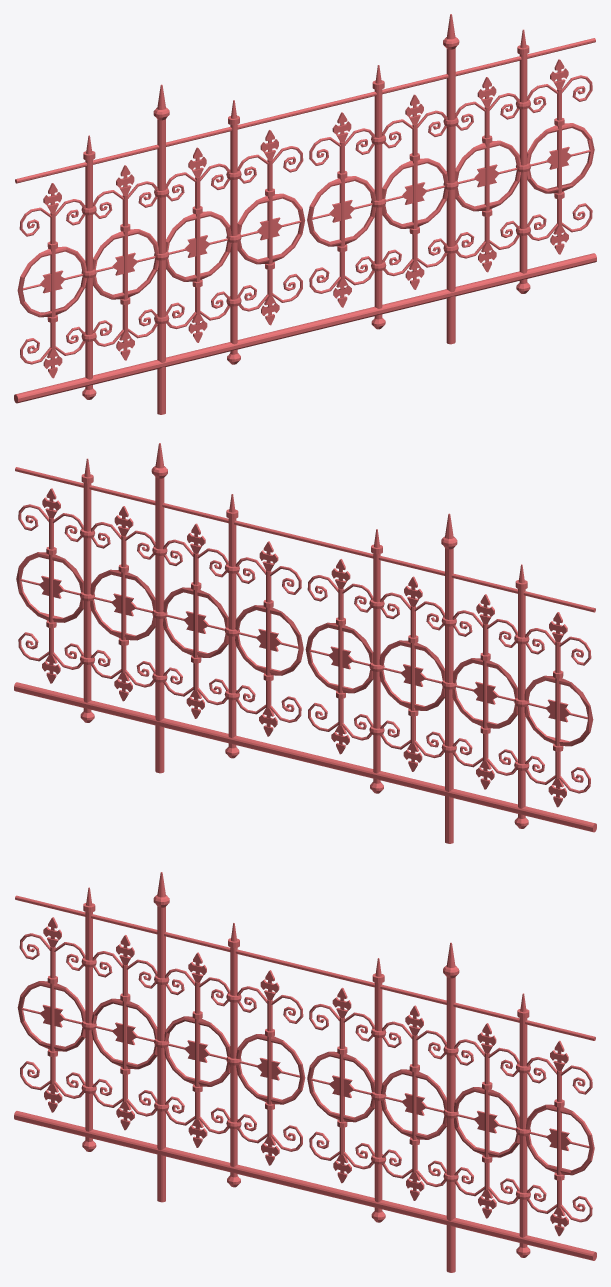
File: metal_fence_test.fbx
3 renders of one model, top to bottom at view 1: azimuth 30°, elevation 25°; view 2: azimuth 150°, elevation 25°; view 3: azimuth 330°, elevation 25°, orthographic.
Visible parts, largest first — view 1: metal_fence_001; view 2: metal_fence_001; view 3: metal_fence_001.
Boxes of the visible parts, x1,y1,x2,y2 form: metal_fence_001: (14,14,596,414); metal_fence_001: (14,443,596,843); metal_fence_001: (14,872,596,1272).
Size of the model in its own units: 290 by 157 by 6.12.
